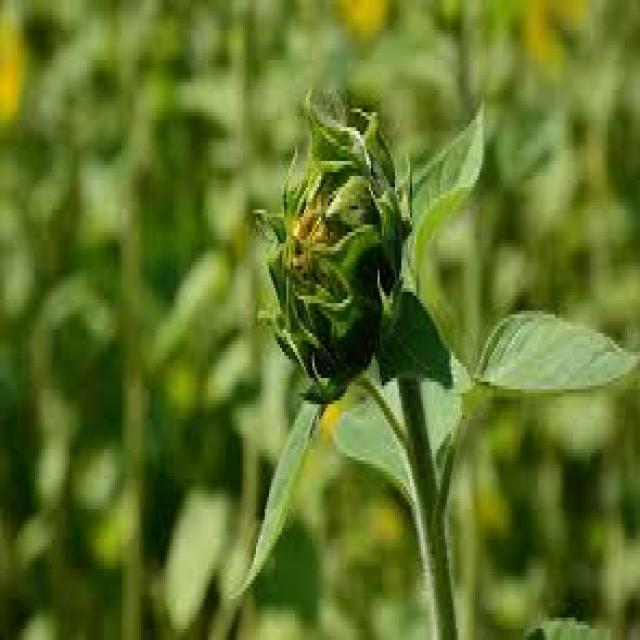Unbloomed: (250, 86, 412, 404)
